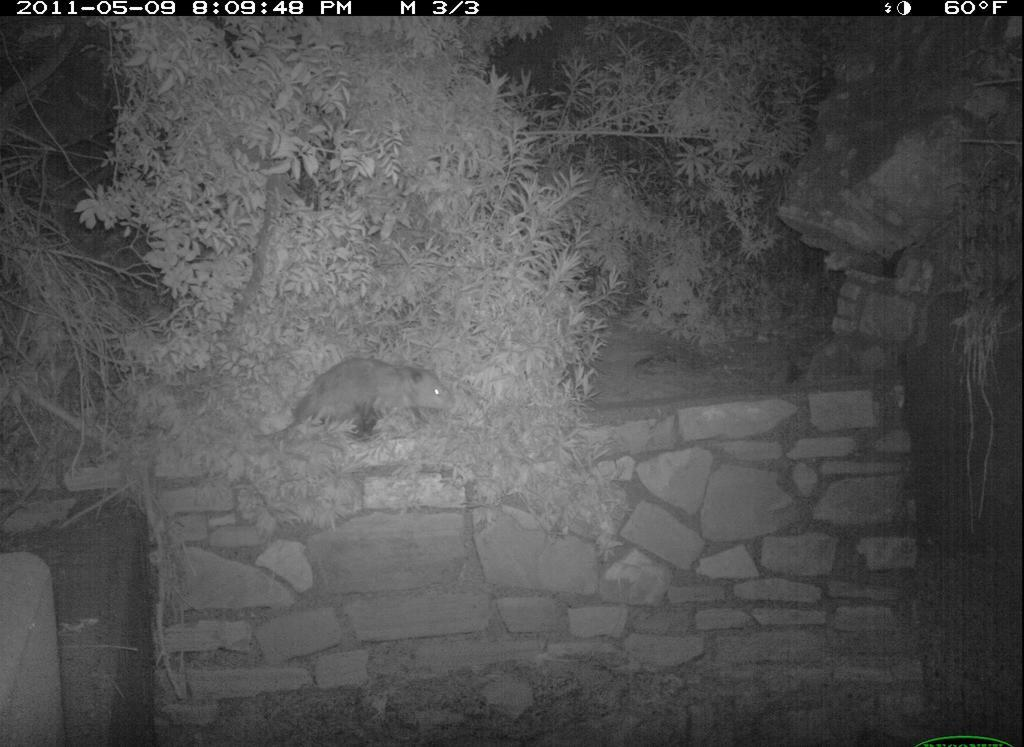opossum: (263, 349, 456, 455)
